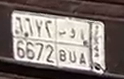2: (45, 20, 54, 64)
6: (15, 16, 25, 60), (25, 17, 35, 60)
7: (34, 19, 44, 62)
A: (79, 28, 88, 65)
B: (58, 30, 67, 62)
U: (68, 27, 77, 64)
